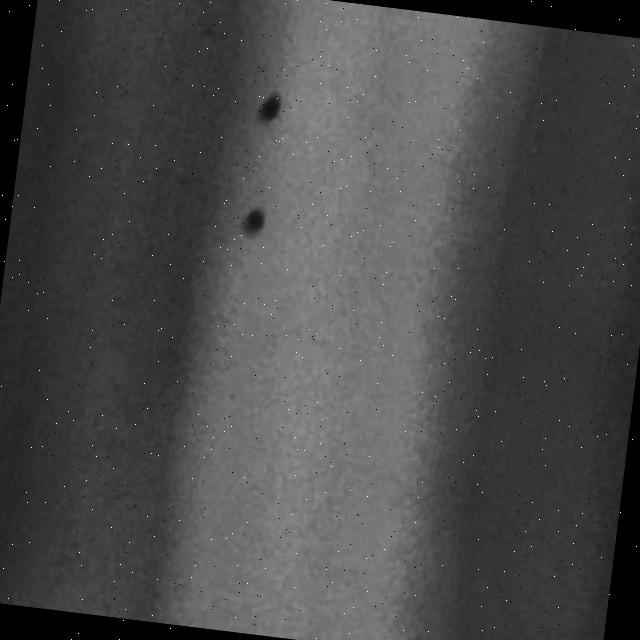Pore: (250, 73, 298, 126), (234, 202, 276, 242)
